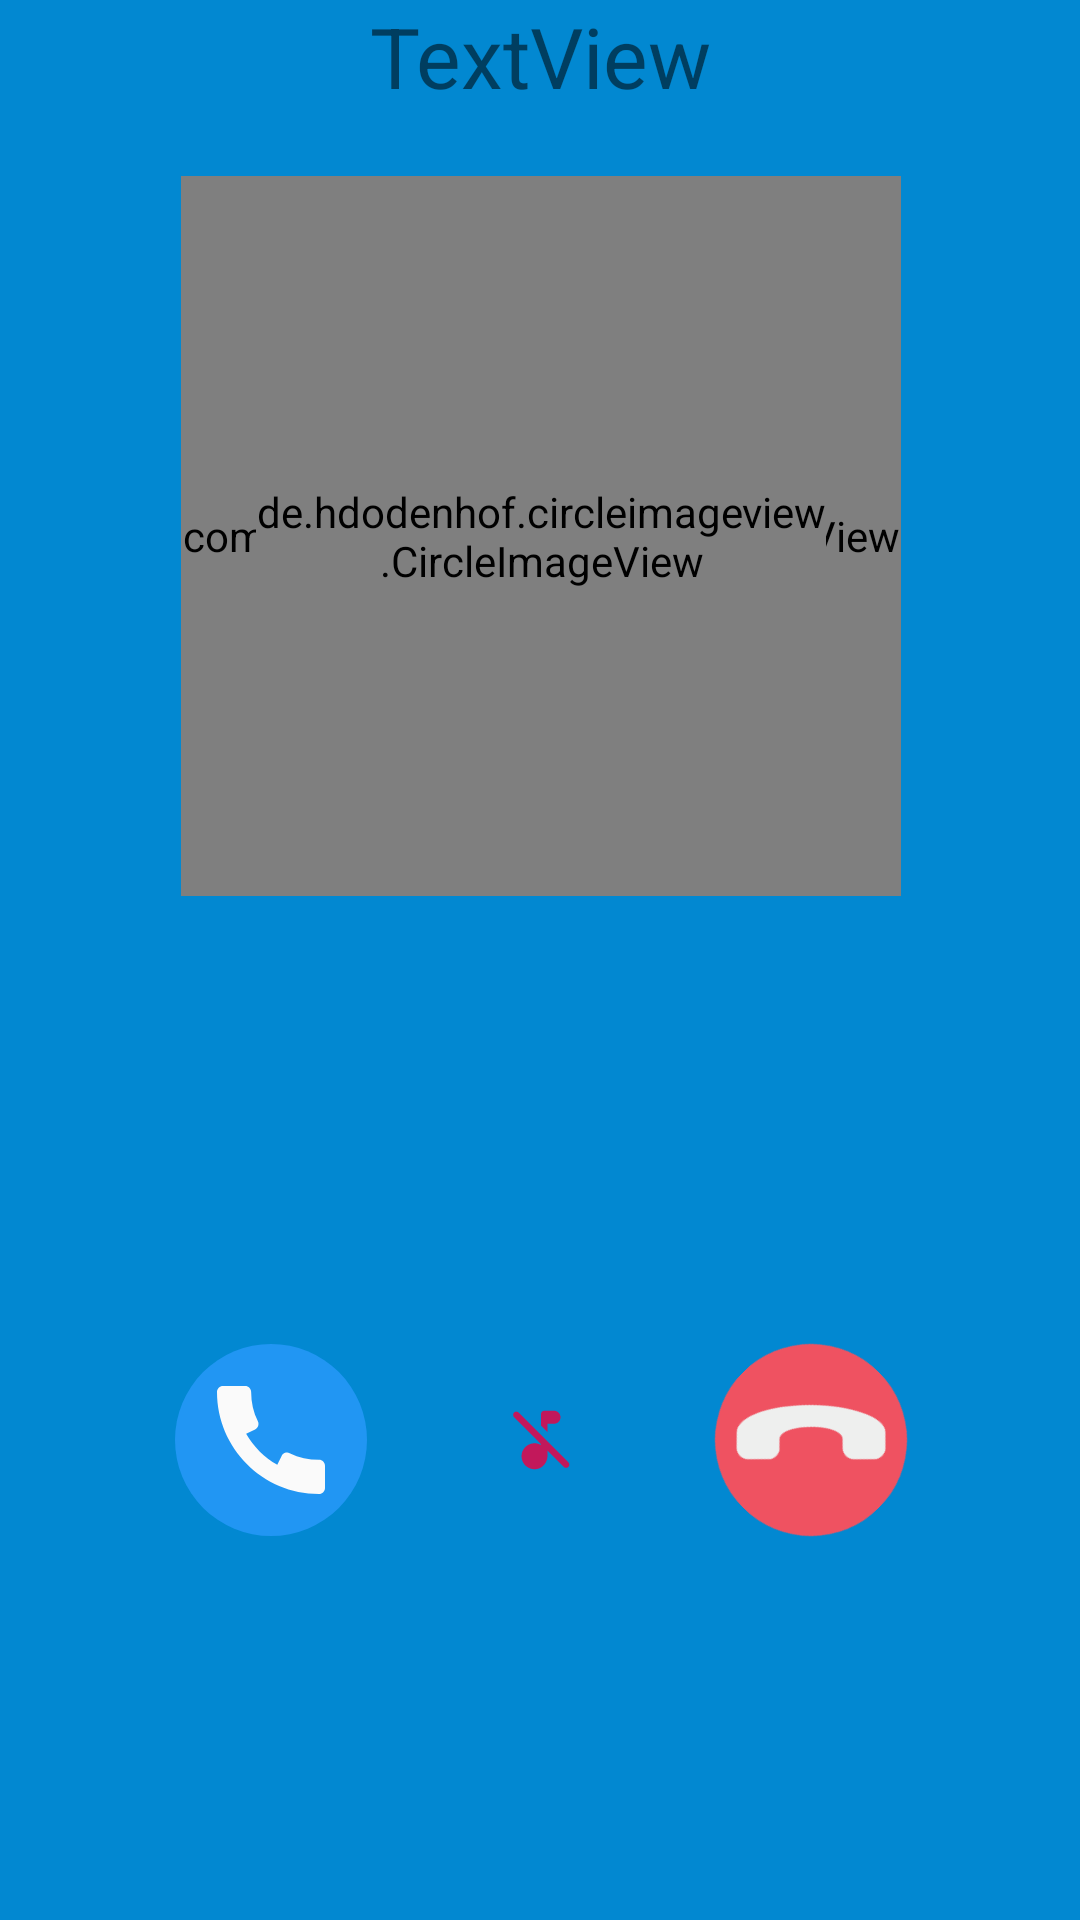

Icons on this 1080px x 1920px Android screen, each with the point to tap as [x,y]:
music off: [541,1440]
telephone: [271,1440]
